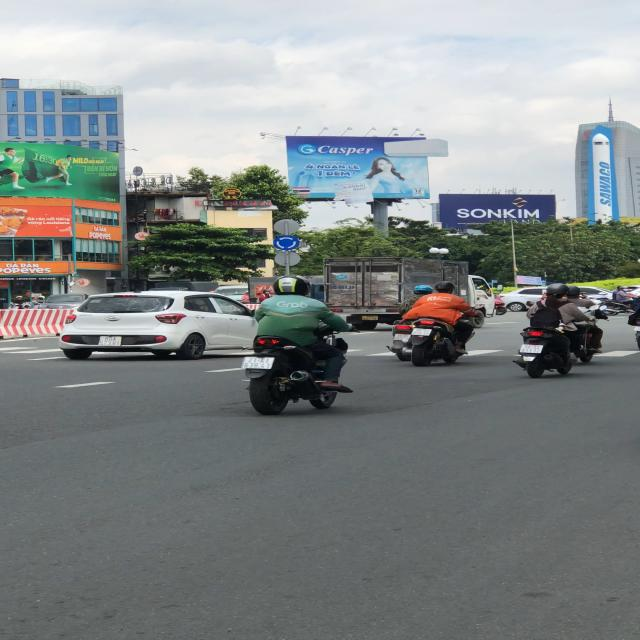Bien bao noi giao nhau chay theo vong xuyen: (271, 235, 303, 251)
